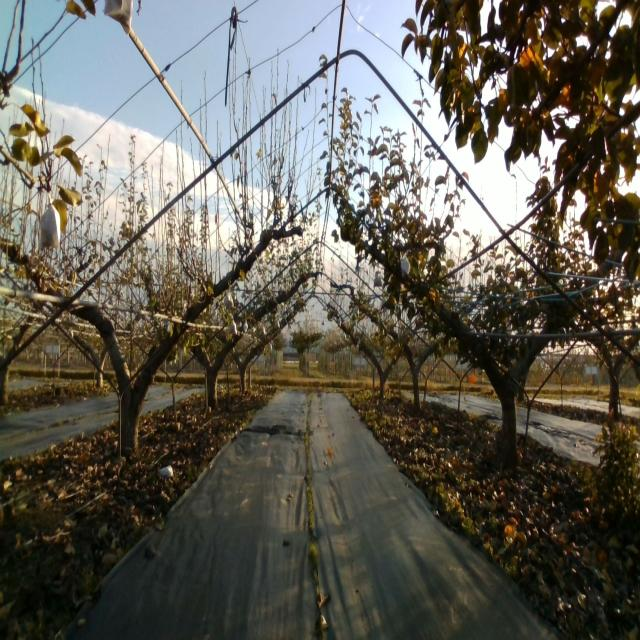pearbags: (38, 199, 61, 250)
